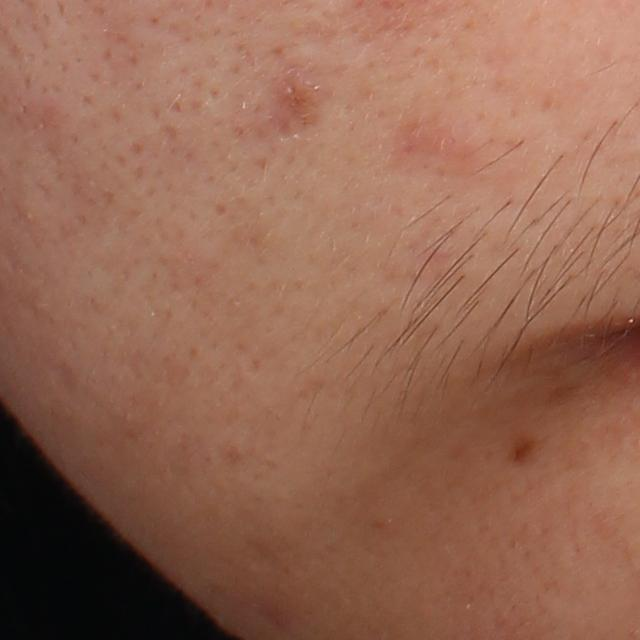nevus: (504, 432, 541, 470)
